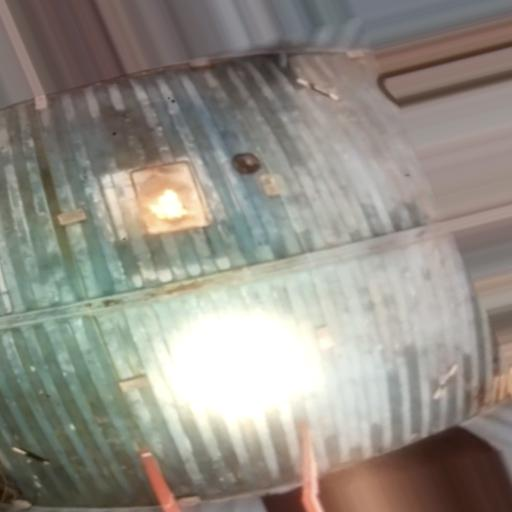Fire: (149, 189, 187, 221)
